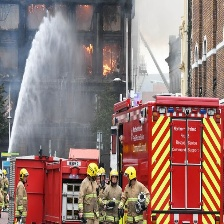fire: (101, 46, 120, 75), (80, 43, 95, 55), (81, 5, 91, 11)
smoke: (99, 2, 181, 40)
